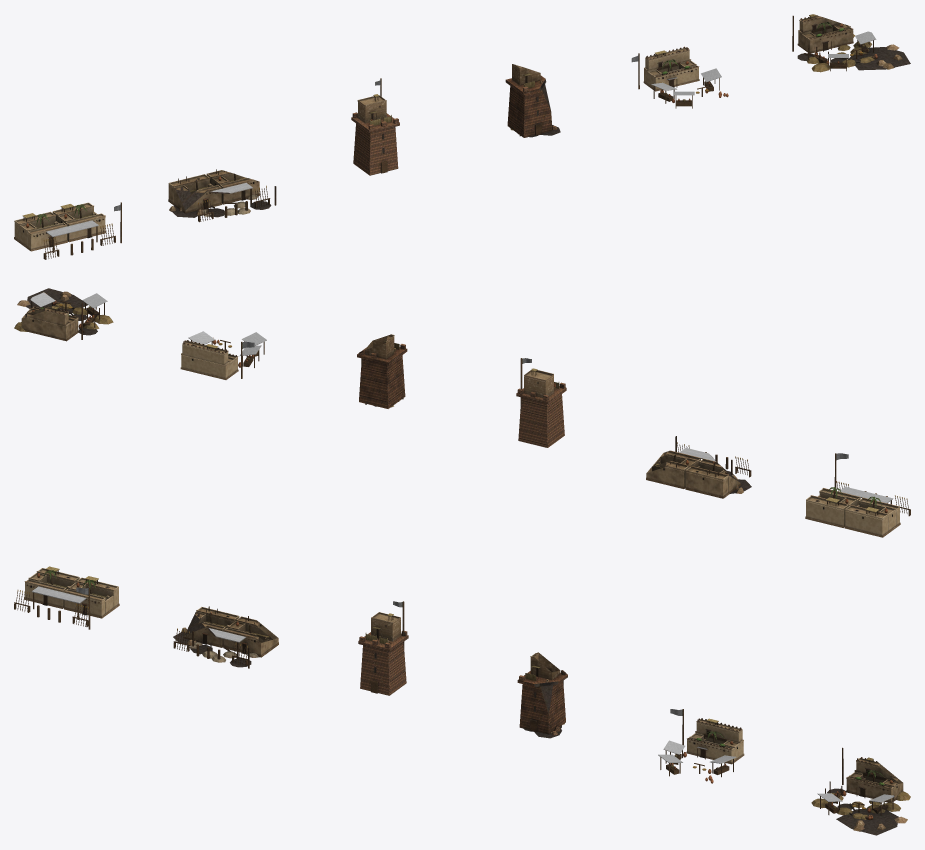
Rendered from rts-classical-mesopotamia.glb.
The picture shows the model from 3 angles, top to bottom: view 1: azimuth 30°, elevation 25°; view 2: azimuth 150°, elevation 25°; view 3: azimuth 330°, elevation 25°; orthographic projection. The views are drawn at different scales.
Visible parts, largest first — view 1: LOD0.005, LOD0.001, LOD0, LOD0.002, LOD0.004, LOD0.003; view 2: LOD0, LOD0.001, LOD0.005, LOD0.002, LOD0.003, LOD0.004; view 3: LOD0.005, LOD0.001, LOD0, LOD0.002, LOD0.003, LOD0.004.
Part boxes in pixels (x1,y1,x2,y2): LOD0.005: (792,14,910,72); LOD0.001: (168,169,276,222); LOD0: (14,202,121,259); LOD0.002: (351,78,399,175); LOD0.004: (631,46,728,108); LOD0.003: (505,64,560,137); LOD0: (805,453,910,537); LOD0.001: (646,436,751,498); LOD0.005: (14,288,113,341); LOD0.002: (516,358,566,447); LOD0.003: (357,334,407,408); LOD0.004: (180,331,266,379); LOD0.005: (811,747,910,835); LOD0.001: (173,606,278,668); LOD0: (14,566,119,629); LOD0.002: (358,601,408,695); LOD0.003: (517,652,567,738); LOD0.004: (658,709,744,783).
Size of what is drawn, in the model's own units: 16.73 by 1.49 by 1.65.
Materials: 2 (2 with a texture image).
